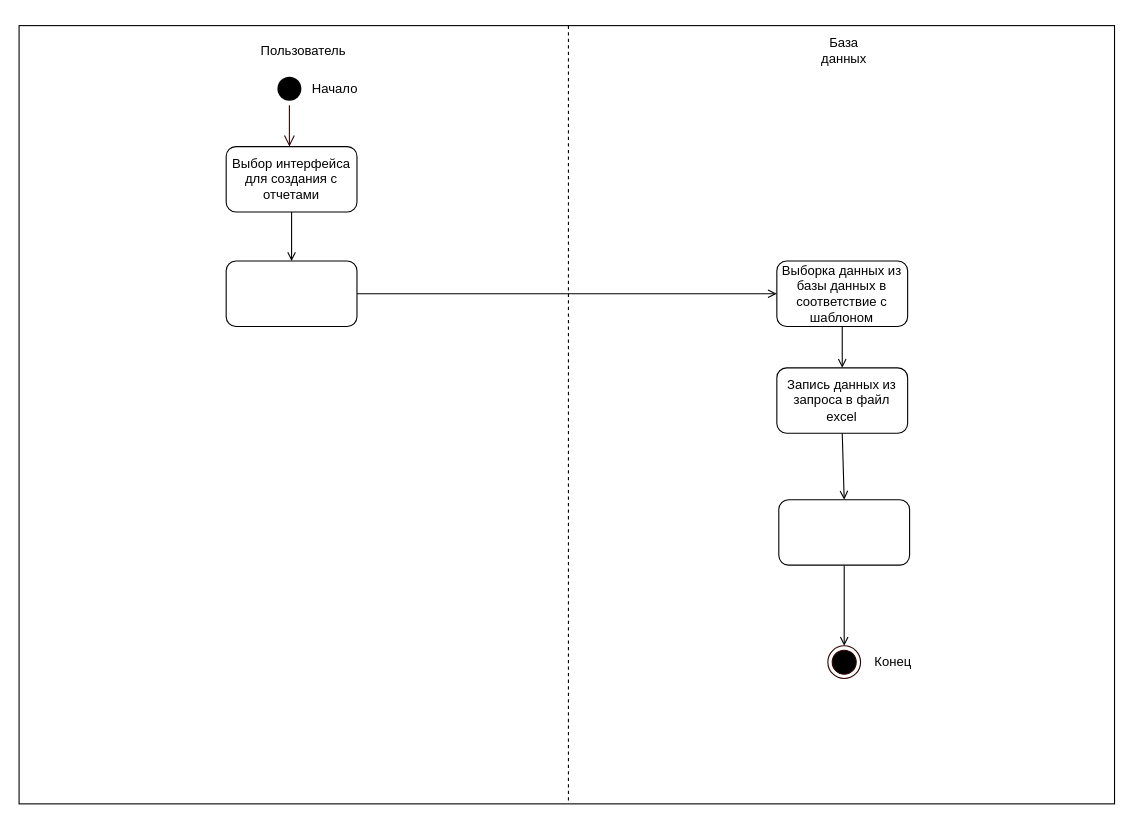
This 1134x824 diagram has some shape labels left out. Here are the shapes that lost their labels. From the top down, the centre of each, then its label:
At [291,293]: "Выбор одного из 3 шаблонов для создания отчетов".
At [844,532]: "Вывлд сообщения об успешном сохранении файла".
